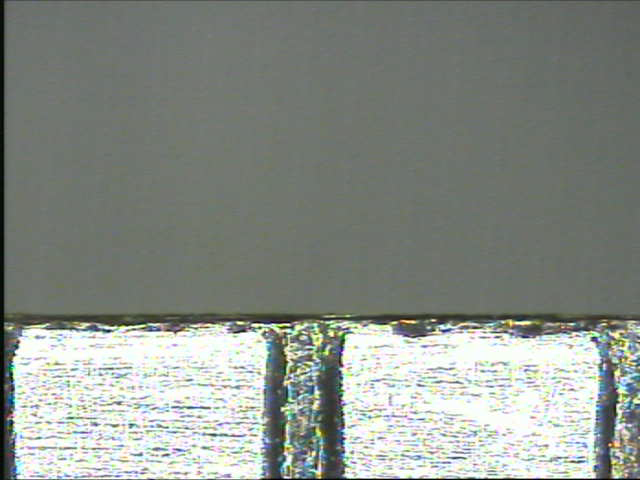line: (261, 332, 347, 476)
